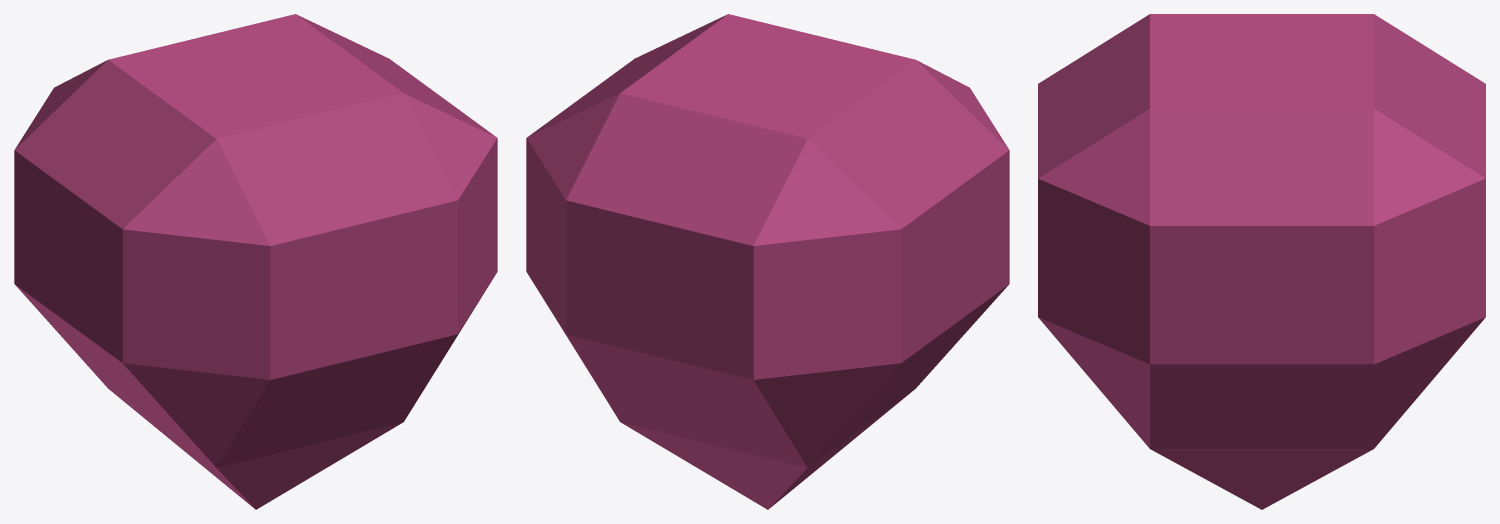
File: Gem2.fbx
3 views of the same model, side by side, from view 1: azimuth 30°, elevation 25°; view 2: azimuth 150°, elevation 25°; view 3: azimuth 270°, elevation 25° (orthographic). The views are drawn at different scales.
Visible parts, largest first — view 1: Gem2; view 2: Gem2; view 3: Gem2.
Part boxes in pixels (x1=…): Gem2: x1=14, y1=14, x2=497, y2=509; Gem2: x1=526, y1=14, x2=1009, y2=509; Gem2: x1=1038, y1=14, x2=1485, y2=509.
Bounding box in the file's own units: 131 × 145 × 131.
